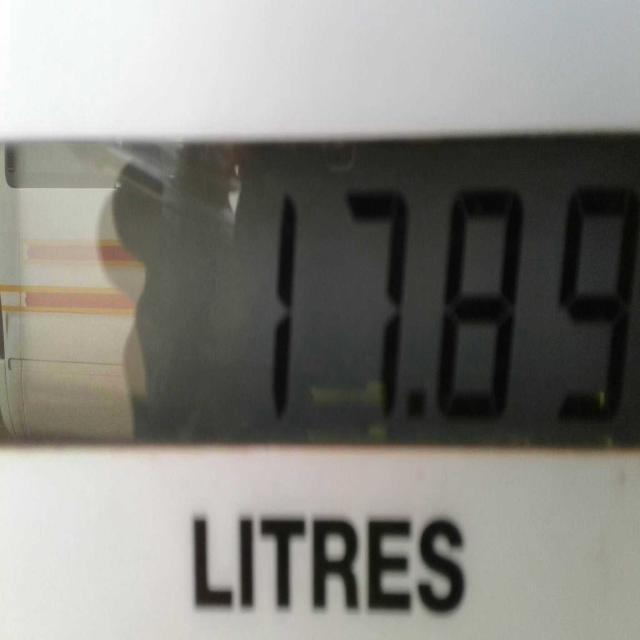.: (408, 378, 426, 421)
1: (262, 195, 302, 420)
7: (347, 184, 410, 418)
8: (438, 181, 523, 419)
9: (561, 189, 640, 433)
